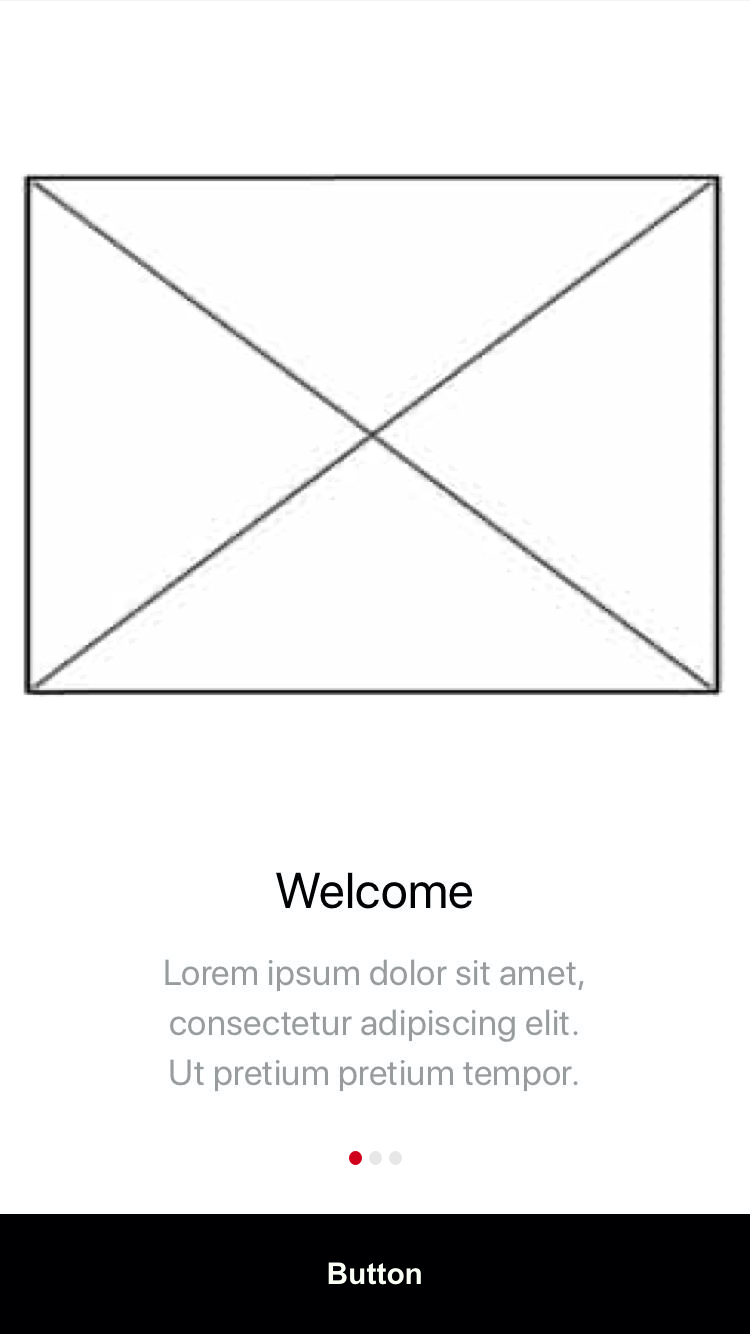Image: (23, 174, 723, 698)
PageIndicator: (348, 1150, 404, 1166)
Text: (163, 959, 589, 1092), (275, 872, 473, 910)
TextButton: (1, 1214, 750, 1334)
